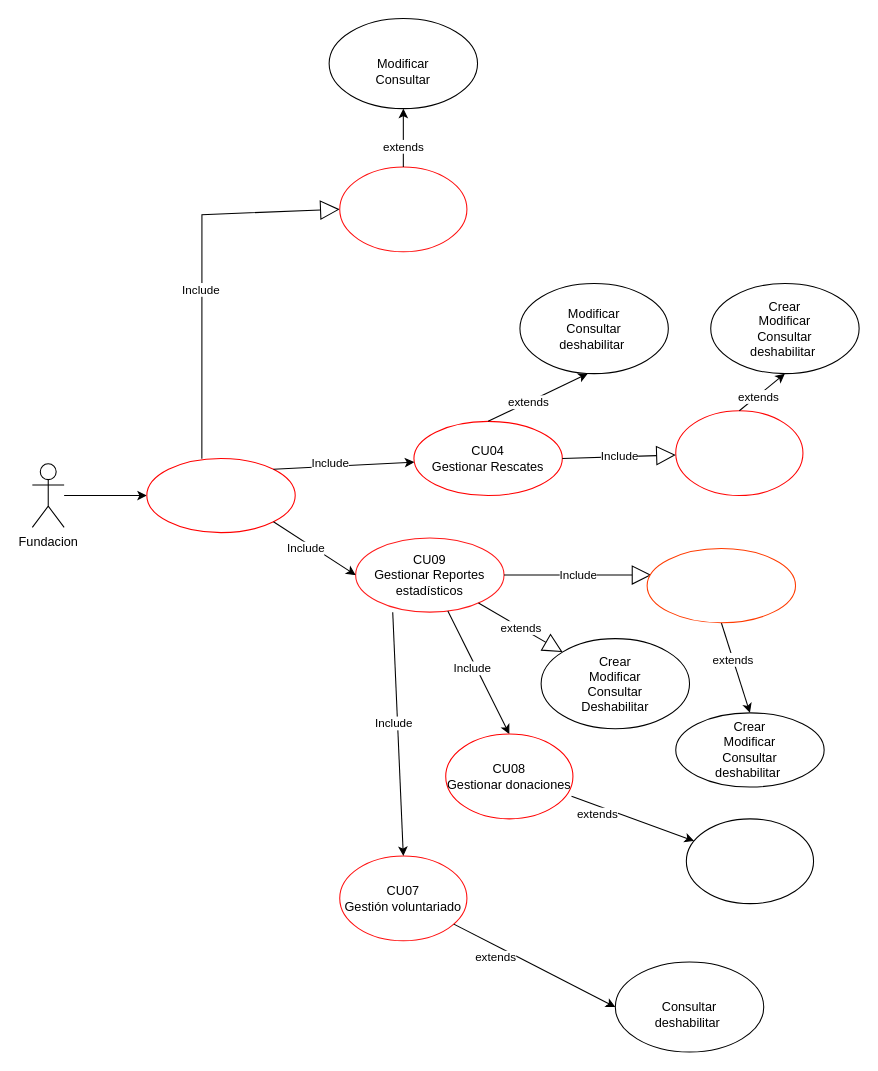
Image size: 878x1071. Some labels were removed from this diagram. The centre of each missing label's shape, as x and y in pixels:
Consultar: point 749,861
CU03 Gestionar perfil fundación: point 403,209
CU05 Gestionar Adopciones: point 739,453
CU06 Gestionar campañas y eventos: point 721,585
CU1 Iniciar sesión: point 220,495
